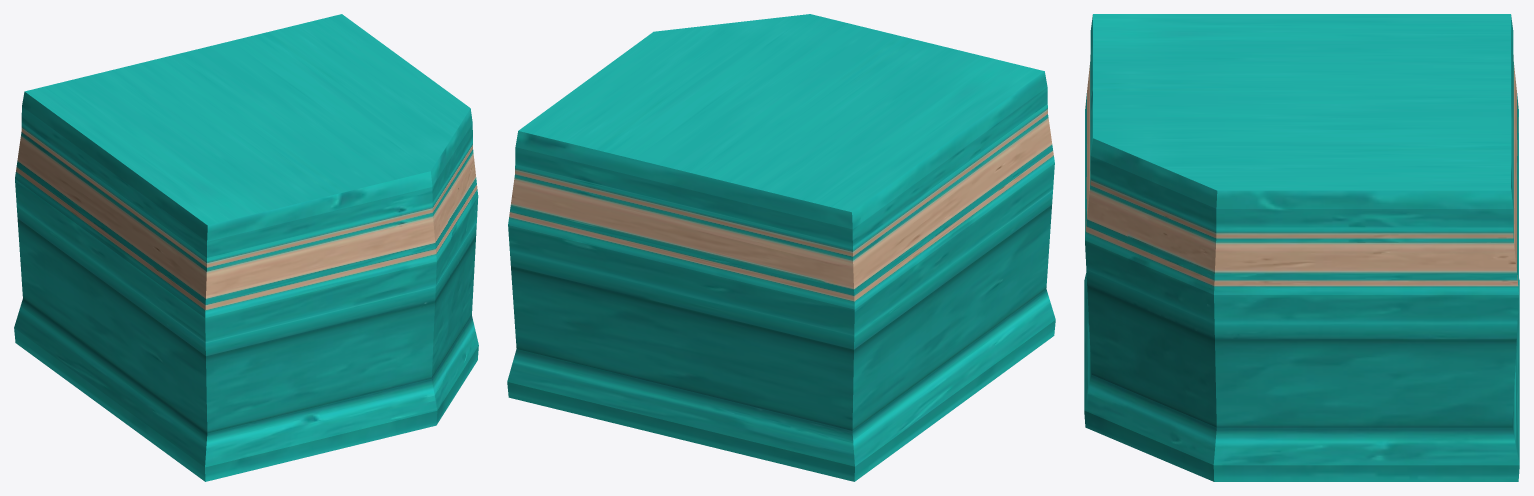
The model's file is corner_rect90_teal.glb.
3 renders of one model, left to right at view 1: azimuth 30°, elevation 25°; view 2: azimuth 150°, elevation 25°; view 3: azimuth 270°, elevation 25°, orthographic. The views are drawn at different scales.
Parts seen in each view (by area): view 1: corner_rect90_teal; view 2: corner_rect90_teal; view 3: corner_rect90_teal.
Part boxes in pixels (x1,y1,x2,y2): corner_rect90_teal: (14,14,478,481); corner_rect90_teal: (507,14,1055,481); corner_rect90_teal: (1084,14,1519,481).
Size of the model in its own units: 0.7396 by 0.5398 by 0.7396.
1 material, 1 textured.
